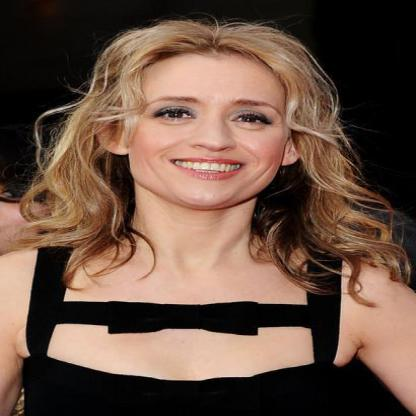long-hair: (30, 209, 384, 248)
